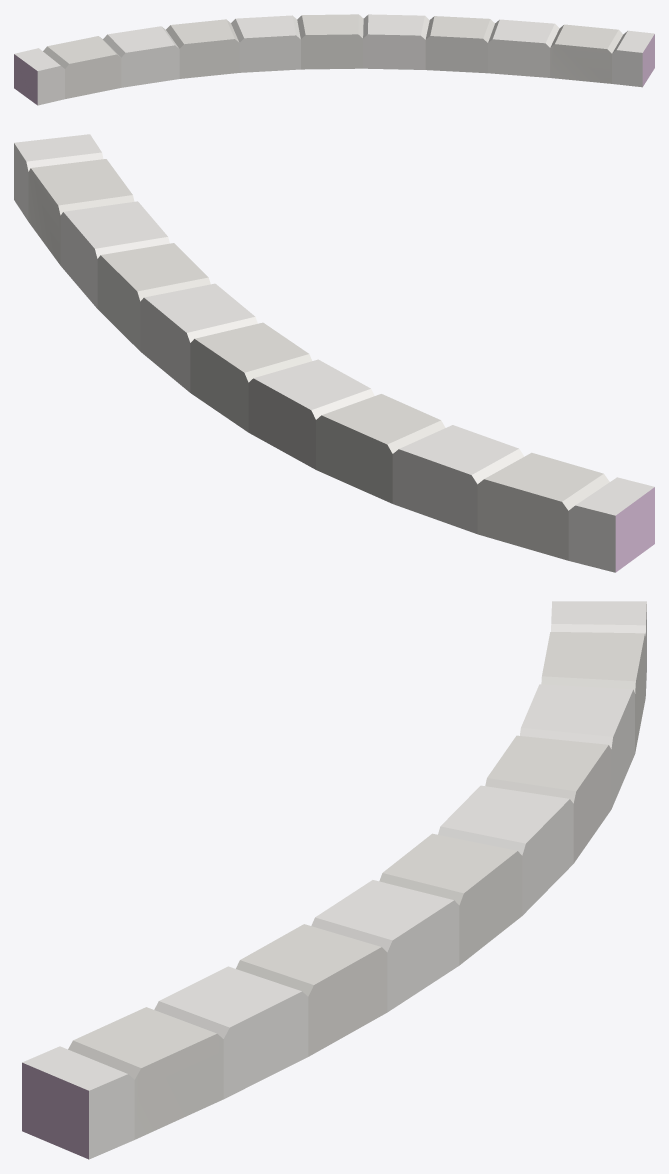
The model's file is Path_Edging_Stones_45_Degrees_Curve_Outer_3x4.glb.
3 renders of one model, top to bottom at view 1: azimuth 30°, elevation 25°; view 2: azimuth 150°, elevation 25°; view 3: azimuth 270°, elevation 25°, orthographic. The views are drawn at different scales.
Visible parts, largest first — view 1: Path_Edging_Stones_45_Degrees_Curve_Outer_3x4; view 2: Path_Edging_Stones_45_Degrees_Curve_Outer_3x4; view 3: Path_Edging_Stones_45_Degrees_Curve_Outer_3x4.
Boxes of the visible parts, x1,y1,x2,y2 form: Path_Edging_Stones_45_Degrees_Curve_Outer_3x4: [14, 14, 654, 105]; Path_Edging_Stones_45_Degrees_Curve_Outer_3x4: [14, 134, 654, 572]; Path_Edging_Stones_45_Degrees_Curve_Outer_3x4: [22, 601, 646, 1159].
Bounding box in the file's own units: 382 × 25 × 206.
